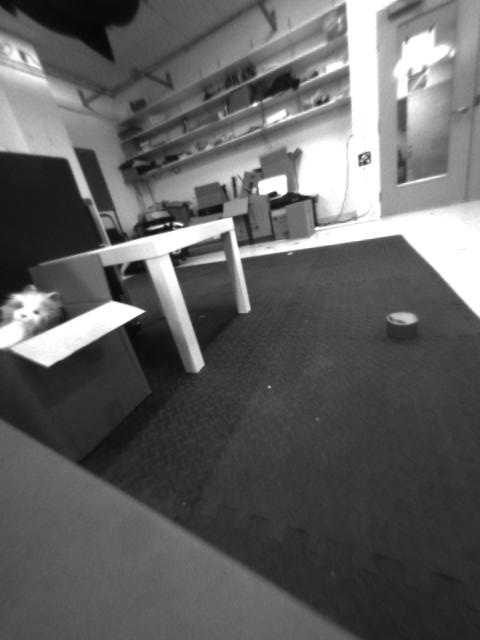dogtoy: (374, 302, 428, 350)
